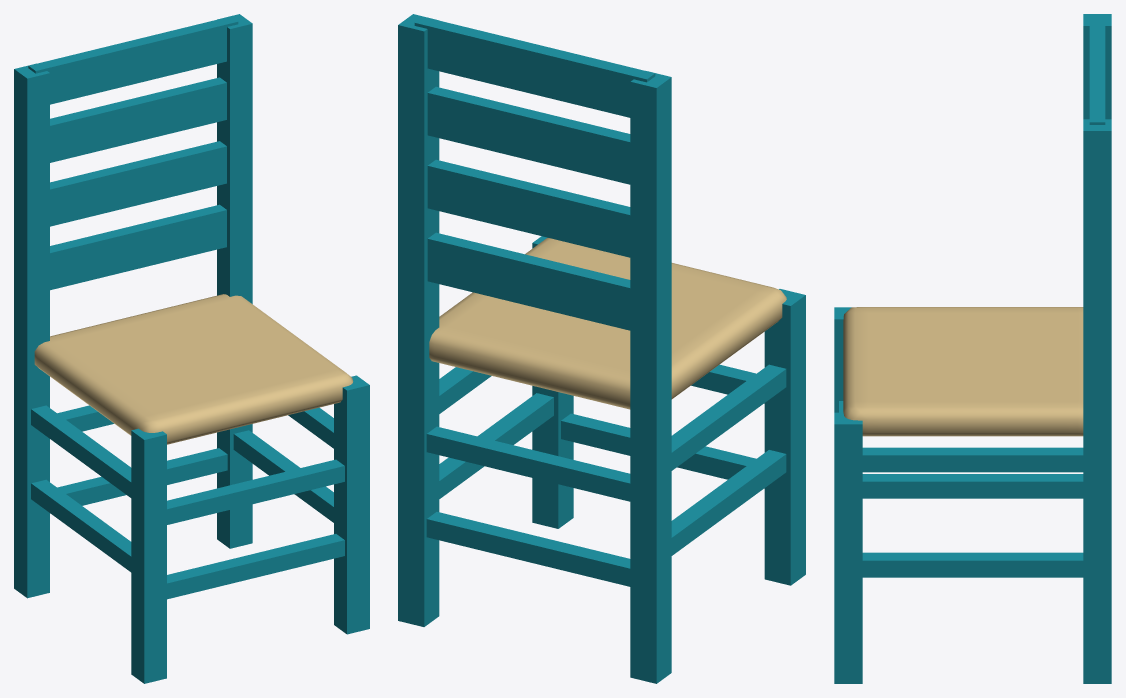
The model's file is chair-teal.glb.
3 views of the same model, side by side, from view 1: azimuth 30°, elevation 25°; view 2: azimuth 150°, elevation 25°; view 3: azimuth 270°, elevation 25° (orthographic). The views are drawn at different scales.
Parts seen in each view (by area): view 1: rush4, paint2, paint3, paint0, paint1, paint8, paint7, paint5, paint6, paint13, paint9, paint11 (+5 smaller); view 2: rush4, paint2, paint3, paint8, paint7, paint6, paint5, paint0, paint10, paint14, paint11, paint15 (+5 smaller); view 3: rush4, paint3, paint1, paint12, paint11, paint16, paint8, paint2, paint0.
Boxes of the visible parts, box(x1,y1,x2,y2) form: rush4: box(34, 294, 353, 444); paint2: box(14, 63, 49, 598); paint3: box(217, 14, 252, 548); paint0: box(131, 428, 166, 683); paint1: box(334, 375, 369, 634); paint8: box(28, 16, 238, 104); paint7: box(50, 77, 226, 162); paint5: box(50, 204, 226, 290); paint6: box(50, 141, 226, 226); paint13: box(167, 459, 344, 524); paint9: box(167, 534, 344, 599); paint11: box(31, 479, 131, 572); rush4: box(429, 238, 786, 409); paint2: box(630, 70, 671, 683); paint3: box(398, 14, 439, 626); paint8: box(414, 16, 655, 117); paint7: box(427, 86, 630, 184); paint6: box(427, 159, 630, 257); paint5: box(427, 232, 630, 330); paint0: box(764, 289, 805, 585); paint10: box(426, 512, 630, 586); paint14: box(426, 426, 630, 501); paint11: box(671, 450, 786, 555); paint15: box(671, 364, 786, 470); rush4: box(843, 307, 1083, 436); paint3: box(1083, 119, 1111, 683); paint1: box(834, 412, 862, 683); paint12: box(862, 552, 1083, 577); paint11: box(862, 447, 1083, 472); paint16: box(862, 474, 1083, 498); paint8: box(1089, 17, 1105, 124); paint2: box(1083, 14, 1111, 119); paint0: box(834, 307, 851, 412).
Size of the model in its own units: 0.445 by 0.985 by 0.445.
